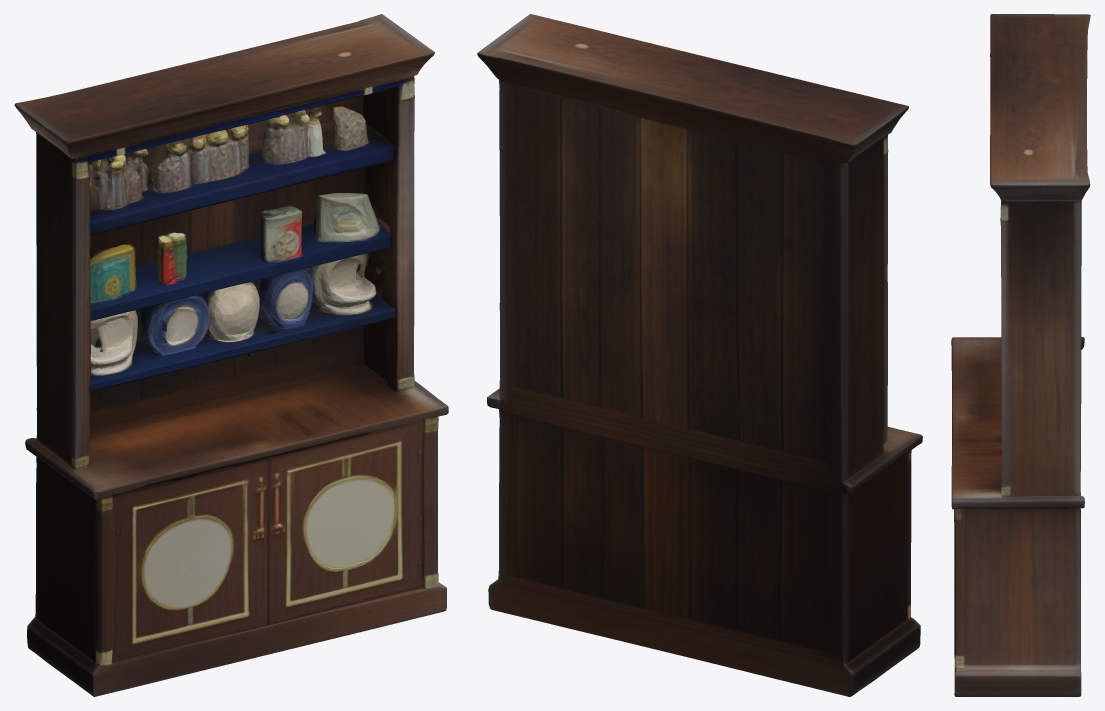
Rendered from pantry_dresser.glb.
3 views of the same model, side by side, from view 1: azimuth 30°, elevation 25°; view 2: azimuth 150°, elevation 25°; view 3: azimuth 270°, elevation 25° (orthographic). The views are drawn at different scales.
Visible parts, largest first — view 1: world; view 2: world; view 3: world.
Part boxes in pixels (bbox=[...]): world: bbox=[14, 14, 448, 696]; world: bbox=[477, 14, 922, 696]; world: bbox=[951, 14, 1090, 696].
Size of the model in its own units: 0.7106 by 1 by 0.2446.
1 material, 1 textured.
